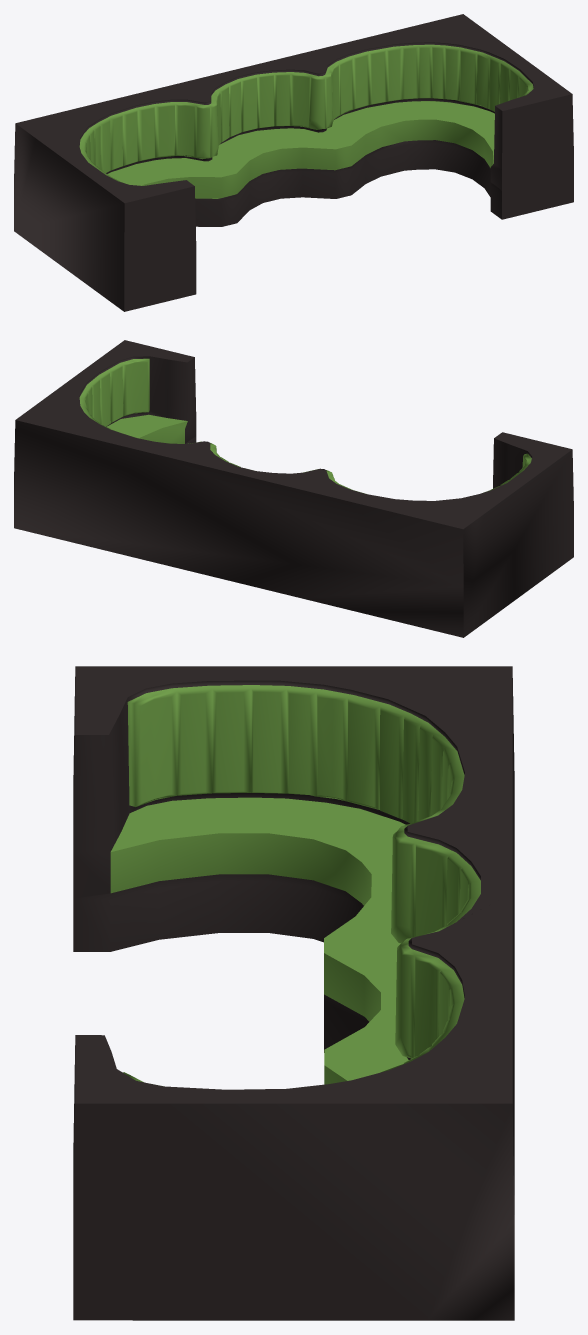
3 renders of one model, top to bottom at view 1: azimuth 30°, elevation 25°; view 2: azimuth 150°, elevation 25°; view 3: azimuth 270°, elevation 25°, orthographic. The views are drawn at different scales.
Visible parts, largest first — view 1: BarCouch.011; view 2: BarCouch.011; view 3: BarCouch.011.
Part boxes in pixels (left/top/right/bottom): BarCouch.011: left=14, top=14, right=573, bottom=311; BarCouch.011: left=14, top=340, right=573, bottom=637; BarCouch.011: left=73, top=666, right=514, bottom=1320.
Size of what is drawn, in the model's own units: 4.75 by 1.09 by 2.02.
Materials: 1 (1 with a texture image).
